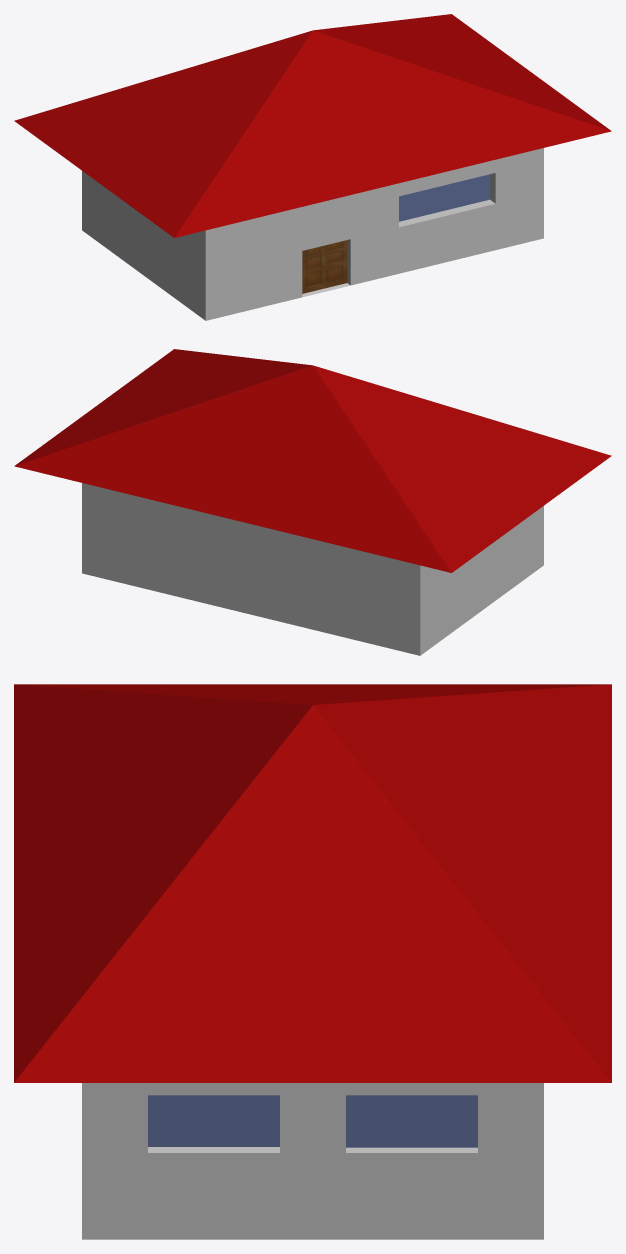
The model's file is house.dae.
3 views of the same model, one above another, from view 1: azimuth 30°, elevation 25°; view 2: azimuth 150°, elevation 25°; view 3: azimuth 270°, elevation 25° (orthographic). The views are drawn at different scales.
Visible parts, largest first — view 1: home; view 2: home; view 3: home.
Boxes of the visible parts, x1=… form: home: x1=14, y1=14, x2=611, y2=320; home: x1=14, y1=349, x2=611, y2=655; home: x1=14, y1=684, x2=611, y2=1239.
Size of the model in its own units: 8.46 by 5.36 by 3.77.
4 materials, 1 textured.
